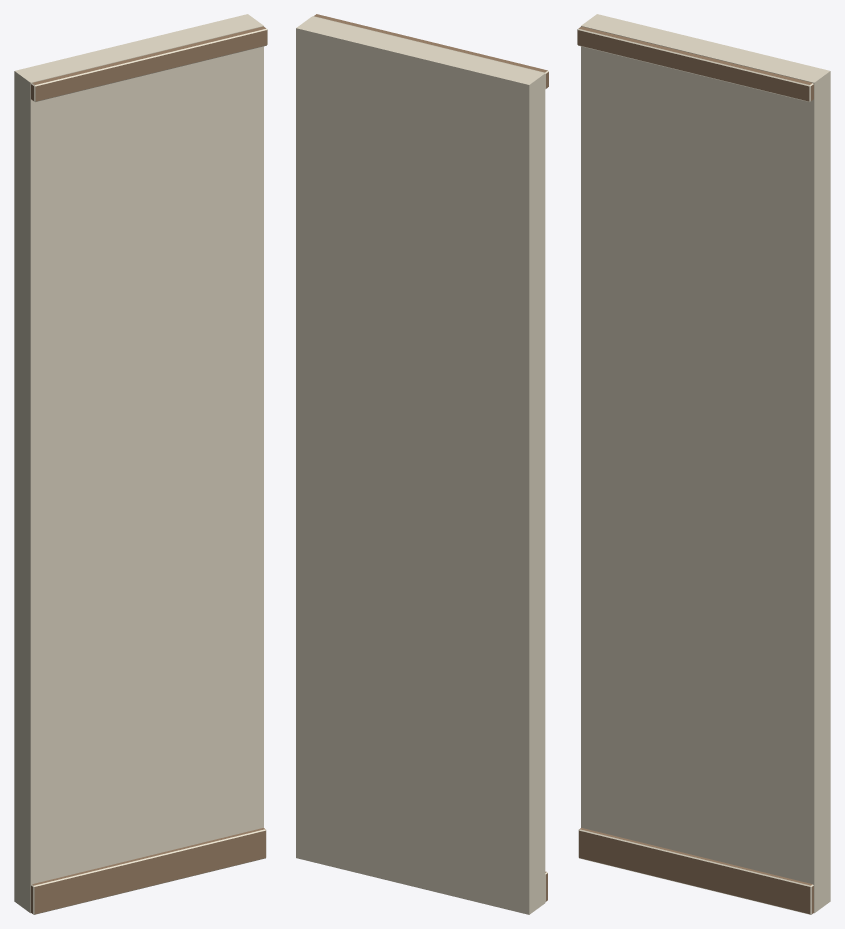
File: muro_340.glb
The picture shows the model from 3 angles, left to right: view 1: azimuth 30°, elevation 25°; view 2: azimuth 150°, elevation 25°; view 3: azimuth 330°, elevation 25°; orthographic projection.
Visible parts, largest first — view 1: muro_340; view 2: muro_340; view 3: muro_340.
Boxes of the visible parts, <box> form: muro_340: <box>14,14,267,914</box>; muro_340: <box>296,14,548,914</box>; muro_340: <box>577,14,830,914</box>.
Size of the model in its own units: 1 by 3.4 by 0.15.
